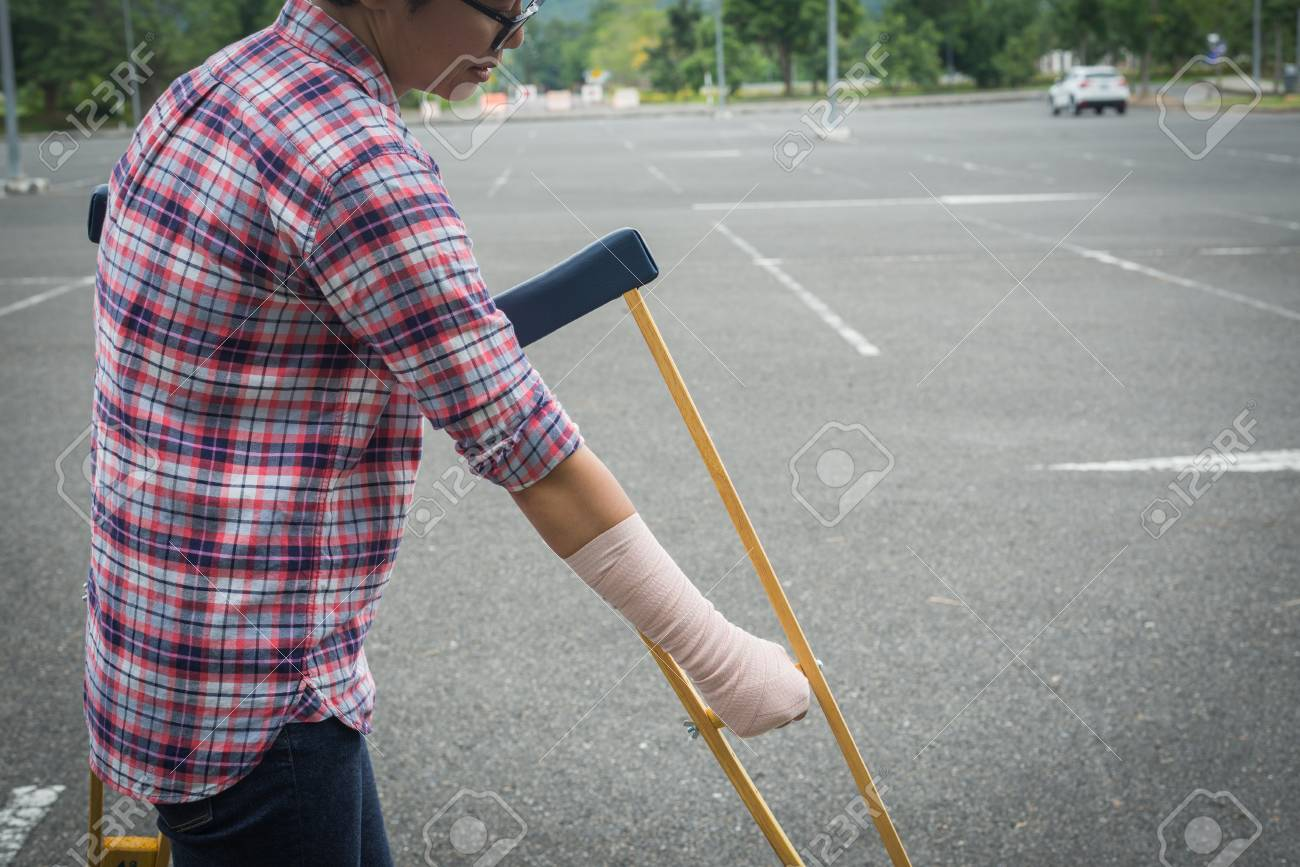crutches: (82, 7, 911, 867)
